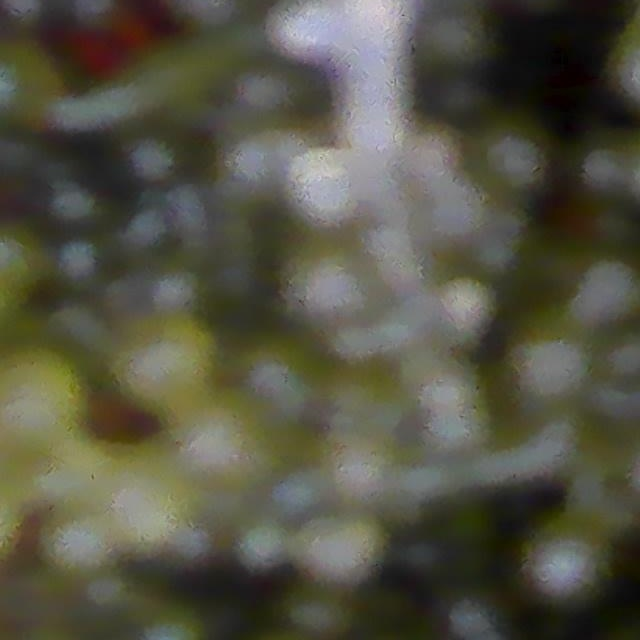SeaGrape: (0, 348, 90, 455), (522, 533, 601, 608), (514, 331, 588, 405), (42, 508, 114, 578), (575, 258, 640, 326), (289, 151, 347, 223), (269, 0, 337, 60), (234, 516, 288, 571)
